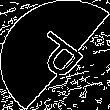P_SE: (21, 24, 89, 86)
